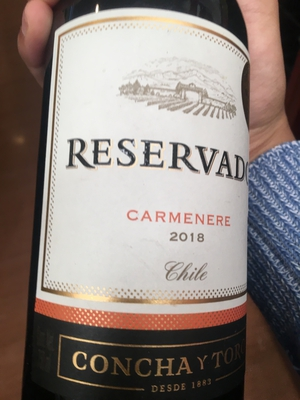reservado carmenere: (37, 3, 259, 400)
